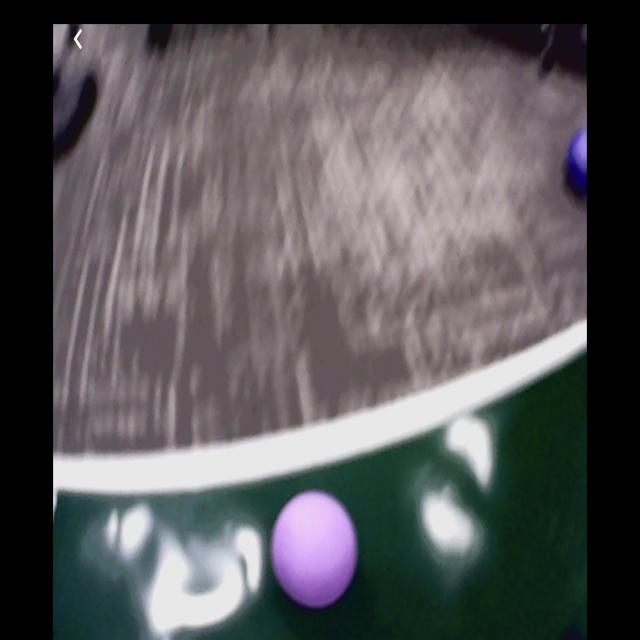ball: (273, 493, 358, 606), (565, 129, 589, 195)
